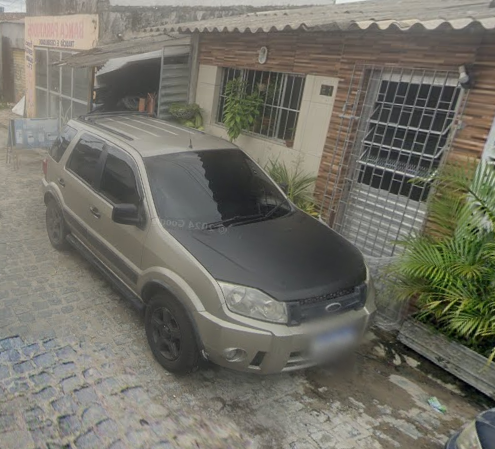car: (40, 108, 373, 376)
